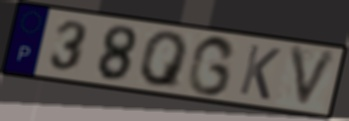3: (48, 19, 90, 73)
8: (97, 24, 140, 83)
G: (185, 34, 238, 98)
K: (237, 42, 284, 103)
Q: (138, 30, 191, 90)
V: (287, 44, 341, 113)
